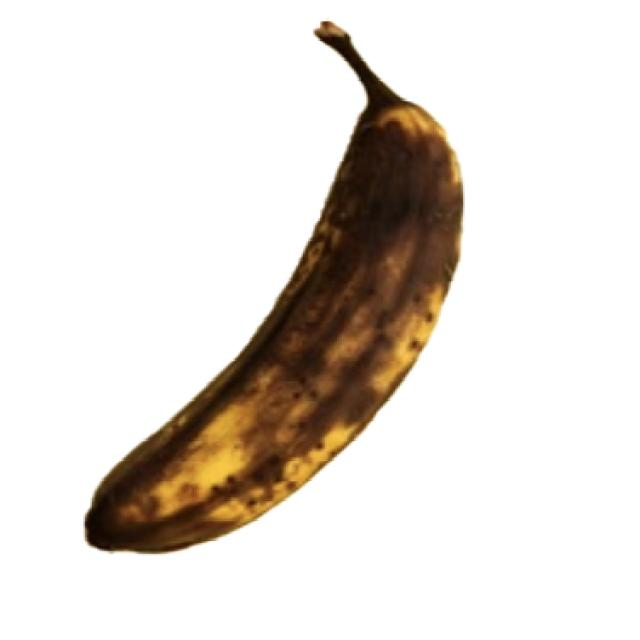rotten-banana: (82, 17, 464, 554)
